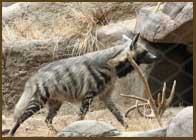hyena: (6, 31, 158, 137)
